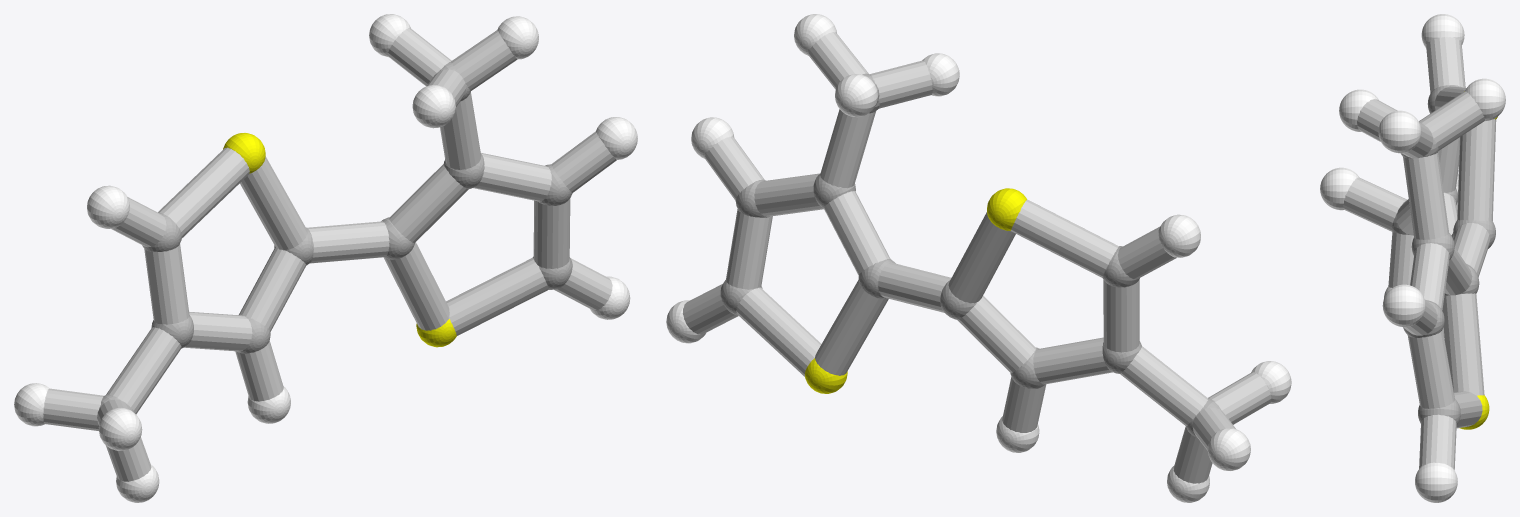
The model's file is Methylthiophene_Phi_20_Theta_20_Methylthiophene.glb.
3 renders of one model, left to right at view 1: azimuth 30°, elevation 25°; view 2: azimuth 150°, elevation 25°; view 3: azimuth 270°, elevation 25°, orthographic.
Visible parts, largest first — view 1: grp7965, grp3621, grp1, grp7241; view 2: grp7965, grp3621, grp1, grp7241; view 3: grp7965, grp3621, grp1, grp7241.
Part boxes in pixels (x1,y1,x2,y2): grp7965: [43, 28, 616, 481]; grp3621: [14, 14, 637, 502]; grp1: [98, 62, 572, 427]; grp7241: [223, 133, 456, 347]; grp7965: [682, 32, 1271, 483]; grp3621: [666, 14, 1291, 502]; grp1: [720, 73, 1222, 437]; grp7241: [805, 188, 1026, 393]; grp7965: [1343, 37, 1496, 469]; grp3621: [1320, 14, 1505, 502]; grp1: [1392, 85, 1495, 424]; grp7241: [1459, 91, 1497, 429].
Size of the model in its own units: 9.49 by 5.98 by 2.6.
